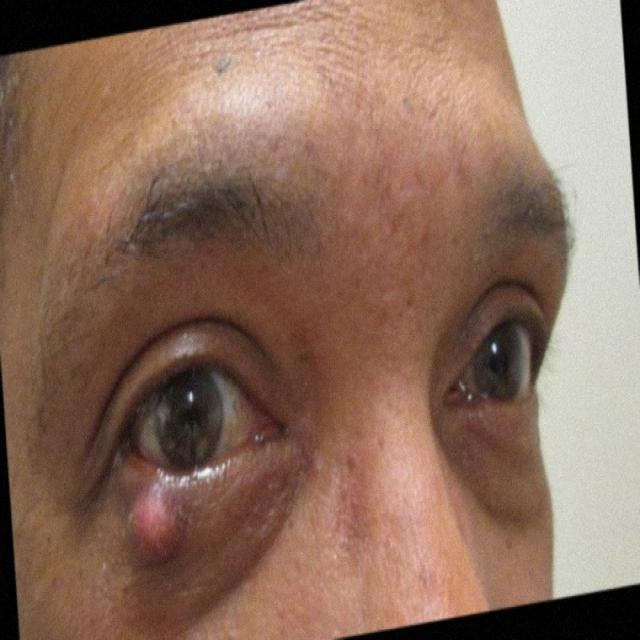Chalazion: (94, 303, 307, 592)
Healthy-Eye: (445, 270, 555, 499)
